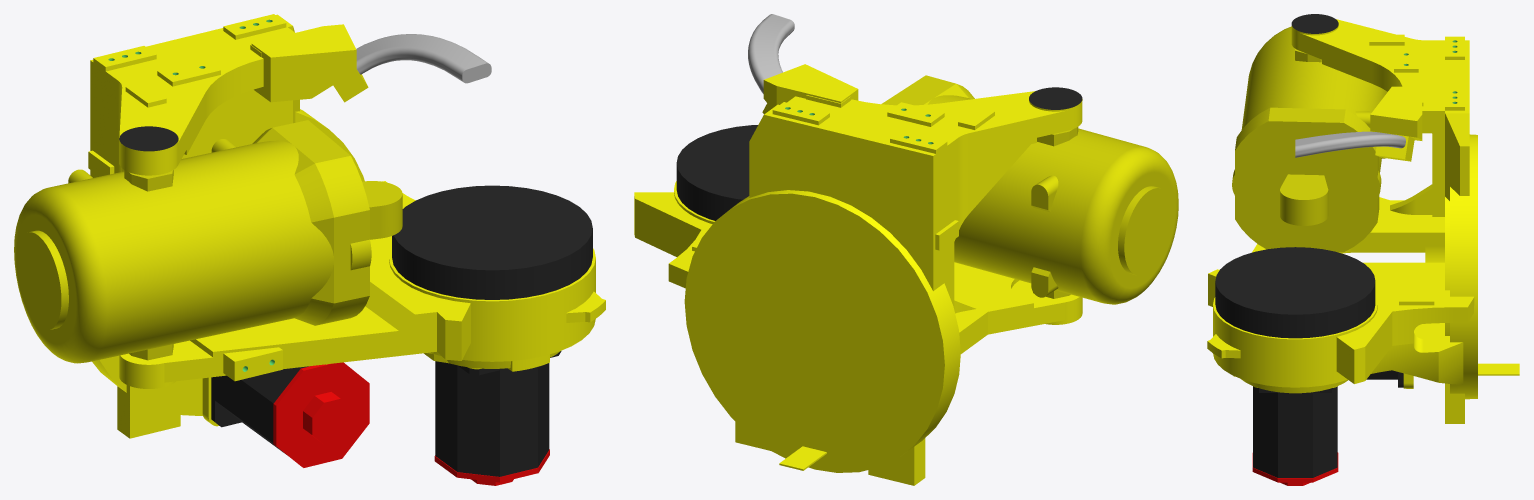
The picture shows the model from 3 angles, left to right: view 1: azimuth 30°, elevation 25°; view 2: azimuth 150°, elevation 25°; view 3: azimuth 270°, elevation 25°; orthographic projection. The views are drawn at different scales.
Parts seen in each view (by area): view 1: 3D_BalancerCase_AllCATPart; view 2: 3D_BalancerCase_AllCATPart; view 3: 3D_BalancerCase_AllCATPart.
Part boxes in pixels (x1,y1,x2,y2): 3D_BalancerCase_AllCATPart: [14, 14, 605, 485]; 3D_BalancerCase_AllCATPart: [634, 14, 1178, 485]; 3D_BalancerCase_AllCATPart: [1207, 14, 1519, 485].
Size of the model in its own units: 1029 by 746 by 634.
